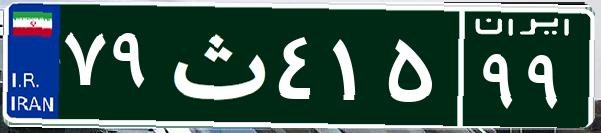1: (330, 28, 385, 110)
4: (273, 28, 330, 110)
5: (385, 28, 445, 110)
7: (57, 26, 110, 107)
9: (475, 38, 525, 113), (110, 28, 158, 105), (525, 38, 570, 115)
ث: (158, 15, 273, 115)
